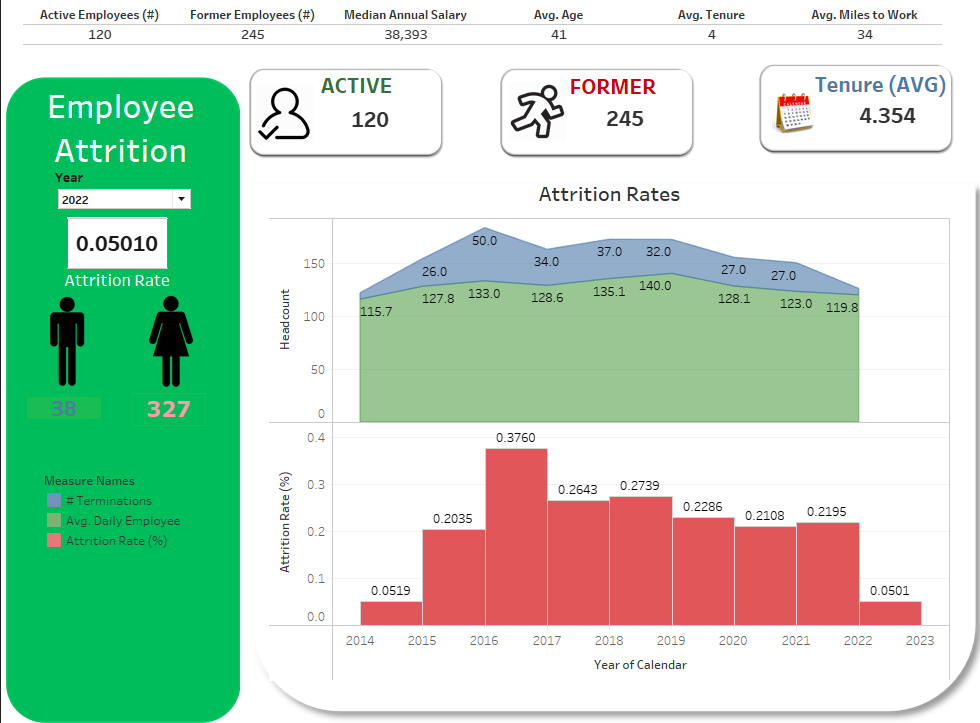

This screenshot's page, from the dashboard's own definition file:
{"tool":"tableau","page":{"name":"Dashboard 2","canvas":[1000,800],"ordinal":1},"visuals":[{"type":"text","box":[19,11,252,52]},{"type":"worksheet","title":"KPI","mark":"Automatic","box":[19,56,941,90]},{"type":"text","box":[808,118,146,66]},{"type":"text","box":[328,119,108,66]},{"type":"text","box":[574,120,108,66]},{"type":"image","param":"Image/small_outline.png","box":[777,129,209,86]},{"type":"image","param":"Image/small_outline.png","box":[512,130,209,86]},{"type":"image","param":"Image/bevel.png","box":[753,130,199,93]},{"type":"image","param":"Image/green background 1.png","box":[1,133,235,660]},{"type":"image","param":"Image/small_outline.png","box":[262,133,209,86]},{"type":"image","param":"Image/Leaver 1.png","box":[512,139,66,69]},{"type":"text","box":[25,143,185,113]},{"type":"image","param":"Image/Active 1.png","box":[272,144,59,55]},{"type":"image","param":"Image/kissclipart-active-icon-clipart-computer-icons-ardmore-glampin-f3551a1d5fa","box":[503,148,86,60]},{"type":"image","param":"Image/active-icon-15.jpg.png","box":[251,150,76,59]},{"type":"worksheet","title":"Time w/ Comp","mark":"Automatic","box":[836,152,120,75]},{"type":"worksheet","title":"Former(#)","mark":"Automatic","box":[584,153,120,71]},{"type":"worksheet","title":"Active(#)","mark":"Automatic","box":[337,156,120,71]},{"type":"image","param":"Image/calendar%20image.jpg","box":[766,156,52,49]},{"type":"worksheet","title":"Active vs Term by Position","mark":"Automatic","box":[258,230,333,266]},{"type":"image","param":"Image/Outline.png","box":[617,233,370,275]},{"type":"worksheet","title":"Active vs Term by Salary","mark":"Automatic","rows":["Annual_Salary"],"cols":["Calculation_4534561881650135040"],"box":[674,234,303,261]},{"type":"filter","title":"Annual Attrition Rates","param":"[federated.1w7ha3o00dfkmu12qjwyb0118hxa].[tyr:Calendar:ok]","box":[48,243,139,44]},{"type":"image","param":"Image/Outline.png","box":[246,243,360,267]},{"type":"legend","title":"by Salary Max %","param":"[federated.1afa7fd1sgv89p14da9zd0aywhz8].[none:Leaver(Y/N):nk]","box":[898,257,86,58]},{"type":"worksheet","title":"Annual Attrition Rates","mark":"Automatic","cols":["Calendar"],"box":[54,278,124,74]},{"type":"text","box":[47,296,132,85]},{"type":"image","param":"Image/female icon 1.png","box":[114,367,96,96]},{"type":"image","param":"Image/male icon 1.png","box":[17,368,97,93]},{"type":"image","param":"Image/female-figure-symbol-sticker-32688-300x300.png","box":[119,370,94,121]},{"type":"image","param":"Image/male-figure-symbol-sticker-32690-300x300.png","box":[16,373,92,116]},{"type":"worksheet","title":"Femaie","mark":"Automatic","rows":["Gender"],"box":[129,442,76,60]},{"type":"worksheet","title":"Male","mark":"Automatic","rows":["Gender"],"box":[31,444,70,66]},{"type":"worksheet","title":"Hybrid vs Remote","mark":"Automatic","rows":["DistancetoWork(miles)"],"cols":["Hybrid/Remote","Leaver(Y/N)"],"box":[251,513,333,266]},{"type":"filter","title":"by Salary Max %","param":"[federated.1afa7fd1sgv89p14da9zd0aywhz8].[yr:Termination:ok]","box":[30,516,160,45]},{"type":"worksheet","title":"by Salary Max %","mark":"Bar","cols":["Termination","Annual_Salary"],"box":[636,522,333,266]},{"type":"image","param":"Image/Outline.png","box":[613,526,375,277]},{"type":"filter","title":"Active vs Term by Position","param":"[federated.1afa7fd1sgv89p14da9zd0aywhz8].[Action (Position)]","box":[30,572,160,51]},{"type":"filter","title":"Hybrid vs Remote","param":"[federated.1afa7fd1sgv89p14da9zd0aywhz8].[none:Hybrid/Remote:nk]","box":[31,633,160,56]},{"type":"filter","title":"Active vs Term by Salary","param":"[federated.1afa7fd1sgv89p14da9zd0aywhz8].[avg:Annual_Salary:qk]","box":[32,691,160,61]}]}

Visuals, with their boxes on the page's 1000x800 design canvas (x1, y1, x2, y2). These are canvas units, not pixel positions in the 980x723 screenshot, which may show the page scaled, cropped or inside an application window:
text: Rect(19, 11, 271, 63)
"KPI" worksheet: Rect(19, 56, 960, 146)
text: Rect(808, 118, 954, 184)
text: Rect(328, 119, 436, 185)
text: Rect(574, 120, 682, 186)
image: Rect(777, 129, 986, 215)
image: Rect(512, 130, 721, 216)
image: Rect(753, 130, 952, 223)
image: Rect(1, 133, 236, 793)
image: Rect(262, 133, 471, 219)
image: Rect(512, 139, 578, 208)
text: Rect(25, 143, 210, 256)
image: Rect(272, 144, 331, 199)
image: Rect(503, 148, 589, 208)
image: Rect(251, 150, 327, 209)
"Time w/ Comp" worksheet: Rect(836, 152, 956, 227)
"Former(#)" worksheet: Rect(584, 153, 704, 224)
"Active(#)" worksheet: Rect(337, 156, 457, 227)
image: Rect(766, 156, 818, 205)
"Active vs Term by Position" worksheet: Rect(258, 230, 591, 496)
image: Rect(617, 233, 987, 508)
"Active vs Term by Salary" worksheet: Rect(674, 234, 977, 495)
"Annual Attrition Rates" filter: Rect(48, 243, 187, 287)
image: Rect(246, 243, 606, 510)
"by Salary Max %" legend: Rect(898, 257, 984, 315)
"Annual Attrition Rates" worksheet: Rect(54, 278, 178, 352)
text: Rect(47, 296, 179, 381)
image: Rect(114, 367, 210, 463)
image: Rect(17, 368, 114, 461)
image: Rect(119, 370, 213, 491)
image: Rect(16, 373, 108, 489)
"Femaie" worksheet: Rect(129, 442, 205, 502)
"Male" worksheet: Rect(31, 444, 101, 510)
"Hybrid vs Remote" worksheet: Rect(251, 513, 584, 779)
"by Salary Max %" filter: Rect(30, 516, 190, 561)
"by Salary Max %" worksheet (Bar marks): Rect(636, 522, 969, 788)
image: Rect(613, 526, 988, 803)
"Active vs Term by Position" filter: Rect(30, 572, 190, 623)
"Hybrid vs Remote" filter: Rect(31, 633, 191, 689)
"Active vs Term by Salary" filter: Rect(32, 691, 192, 752)
